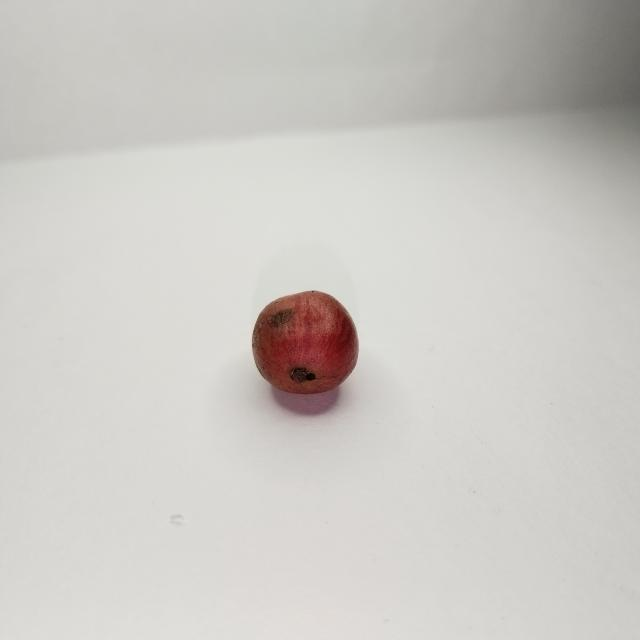Infectado: (250, 291, 361, 398)
